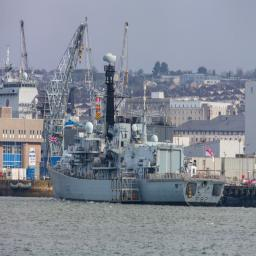Fragata: (45, 49, 228, 209)
